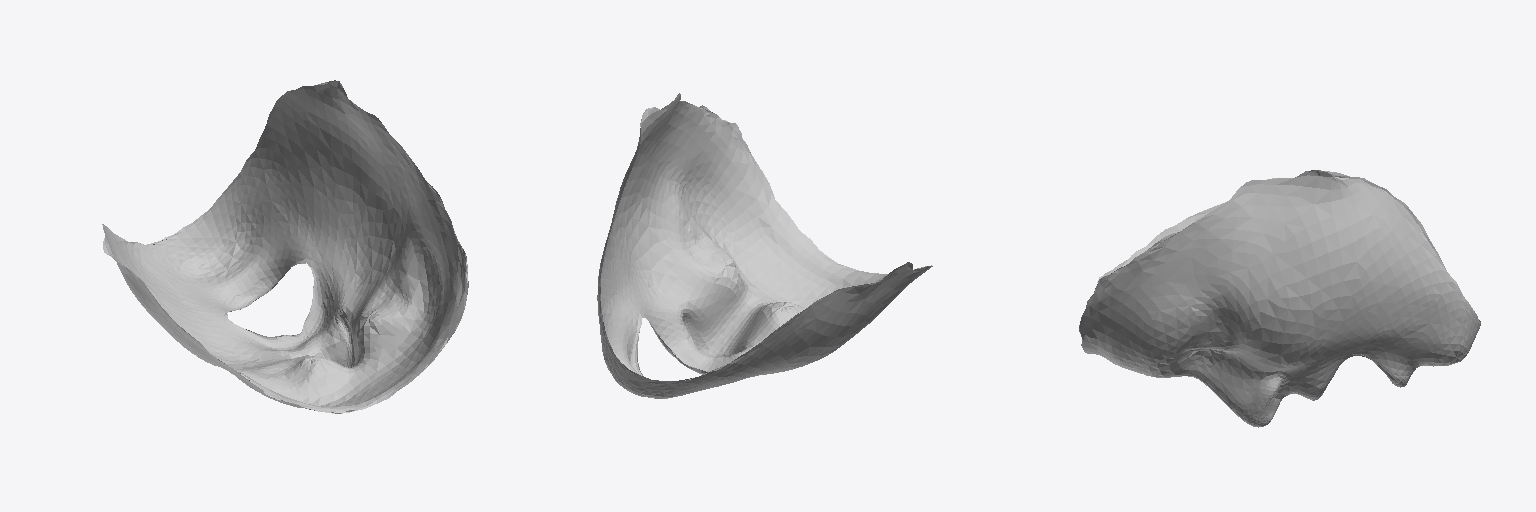
The model's file is face_gab_sfm61.obj.
The picture shows the model from 3 angles: view 1: azimuth 30°, elevation 25°; view 2: azimuth 150°, elevation 25°; view 3: azimuth 270°, elevation 25°; orthographic projection.
Size of the model in its own units: 168 by 165 by 222.